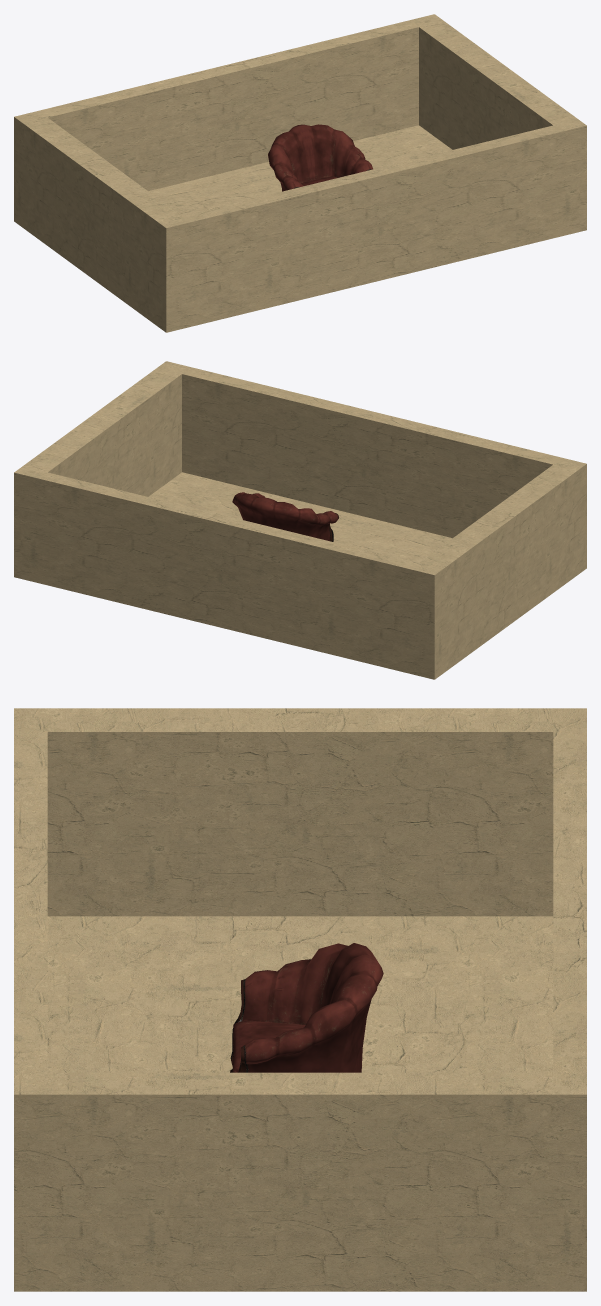
The model's file is FULL-ROOM_HALL_ROOM_23-10.gltf.
3 views of the same model, one above another, from view 1: azimuth 30°, elevation 25°; view 2: azimuth 150°, elevation 25°; view 3: azimuth 270°, elevation 25° (orthographic). The views are drawn at different scales.
Visible parts, largest first — view 1: Cube.003, Sofa020_001_Sofa020_0; view 2: Cube.003, Sofa020_001_Sofa020_0; view 3: Cube.003, Sofa020_001_Sofa020_0.
Boxes of the visible parts, bbox=[...] form: Cube.003: bbox=[14, 14, 586, 332]; Sofa020_001_Sofa020_0: bbox=[268, 124, 372, 191]; Cube.003: bbox=[14, 361, 586, 679]; Sofa020_001_Sofa020_0: bbox=[232, 492, 338, 541]; Cube.003: bbox=[14, 708, 586, 1291]; Sofa020_001_Sofa020_0: bbox=[230, 943, 383, 1072].
Size of the model in its own units: 2.06 by 0.4897 by 1.29.
Materials: 2 (2 with a texture image).
